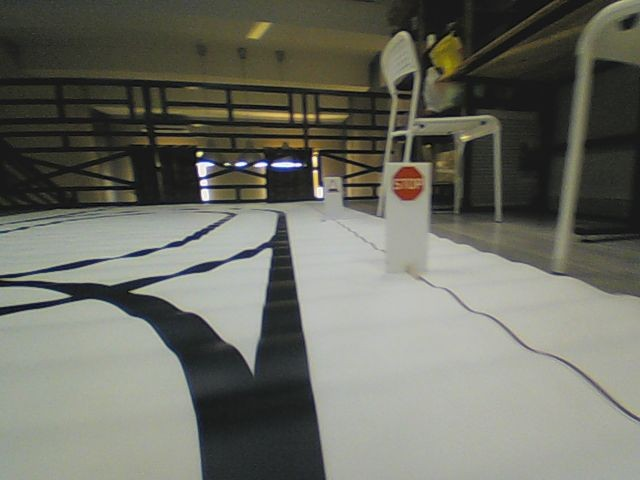Stop: (389, 164, 426, 202)
